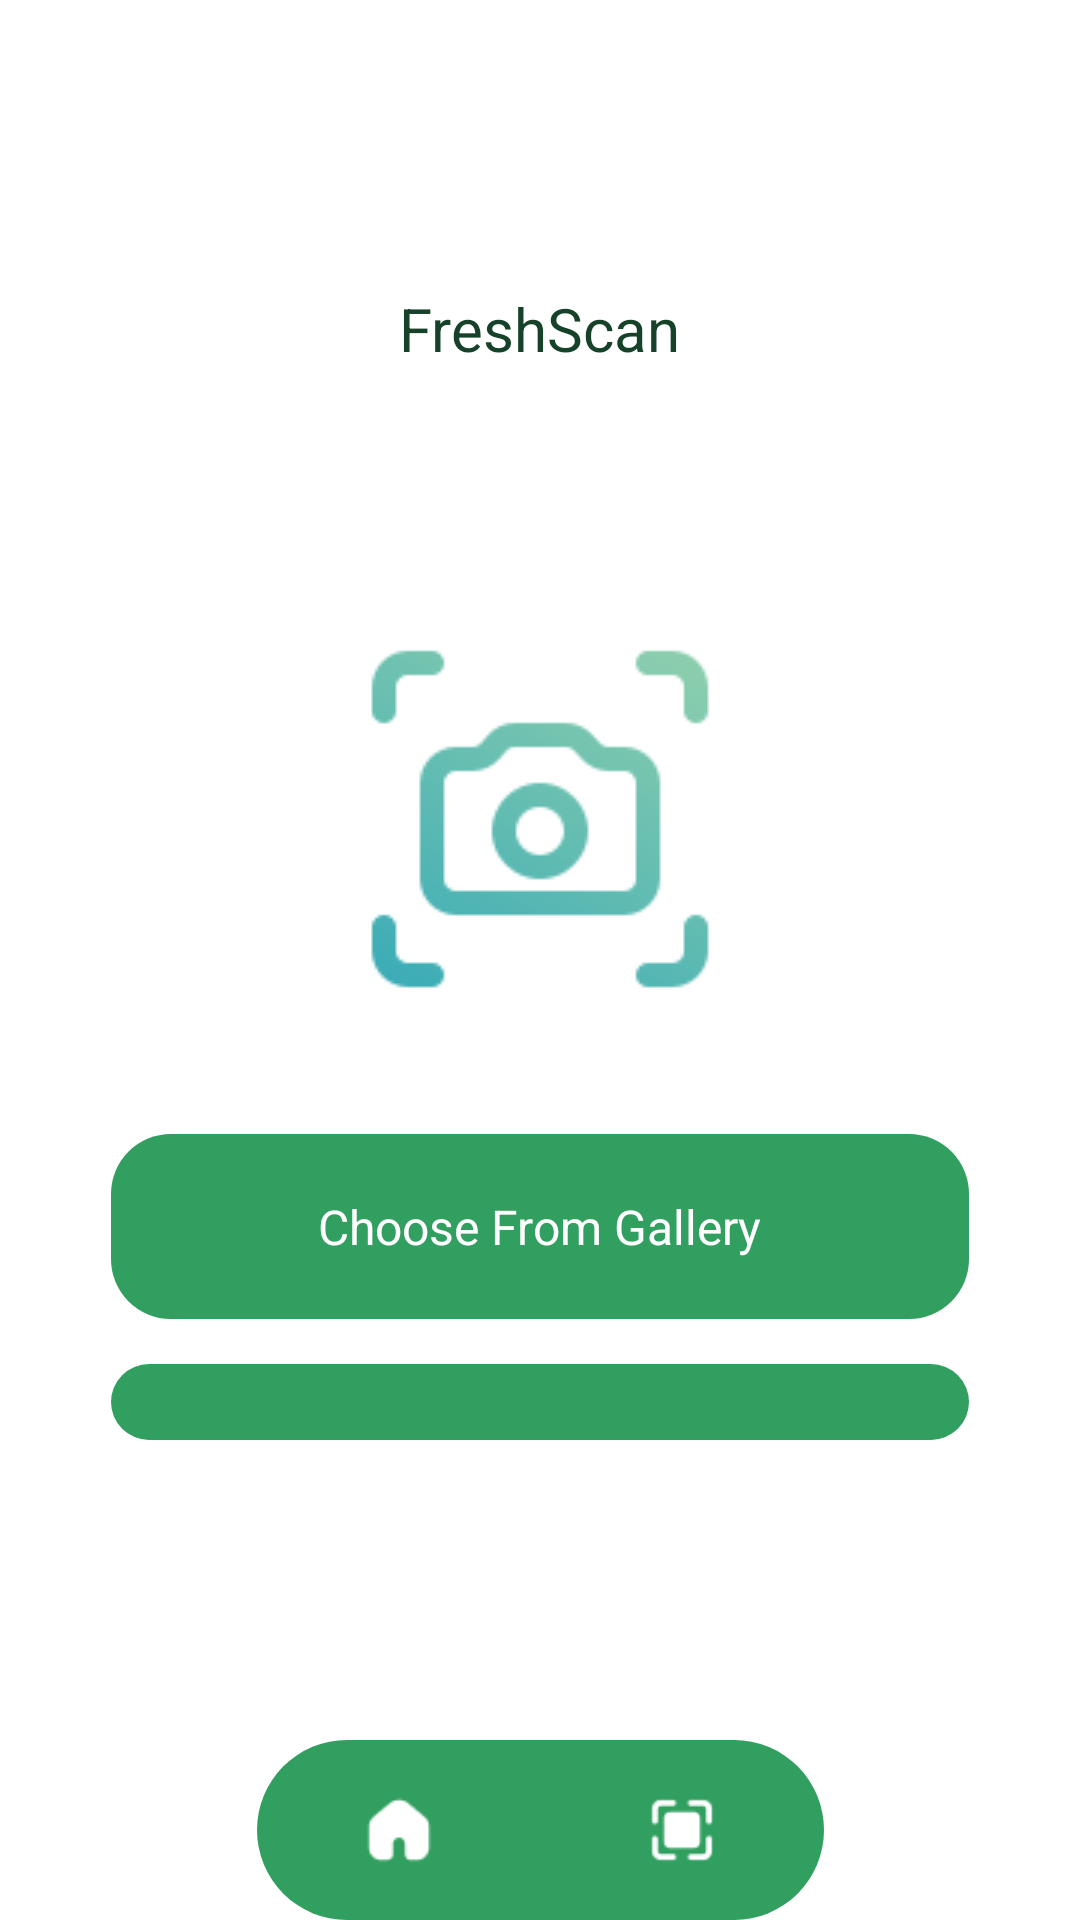

Icons on this 1080×1920 Android screen, each with its box as (x1, y1, x2, y2):
cameraicon: (371, 650, 709, 988)
